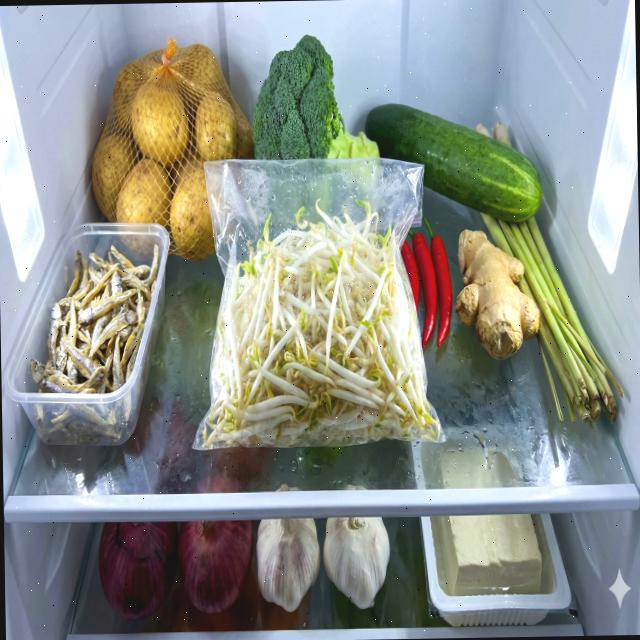anchovies: (28, 242, 164, 442)
bean_sprouts: (199, 193, 441, 447)
brocolli: (251, 32, 381, 165)
chili: (400, 207, 454, 349)
cucumber: (365, 99, 542, 226)
garlic: (256, 514, 322, 614), (322, 516, 392, 610)
ginger: (454, 228, 542, 363)
lemongrass: (481, 210, 624, 429)
onion: (97, 520, 175, 622), (178, 518, 256, 615)
potato: (90, 42, 254, 262)
tofu: (438, 444, 542, 594)
